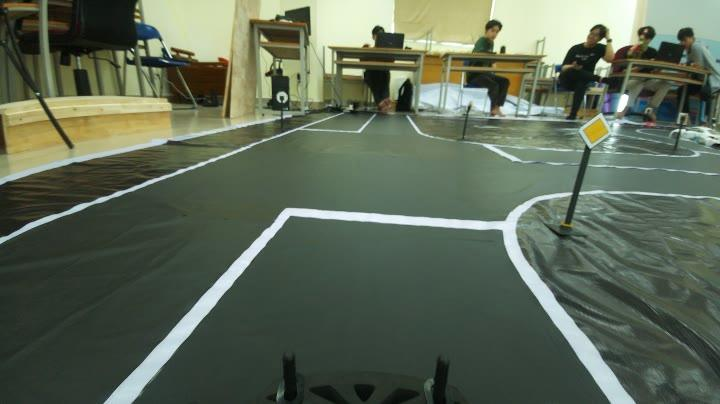priority: (572, 108, 612, 148)
